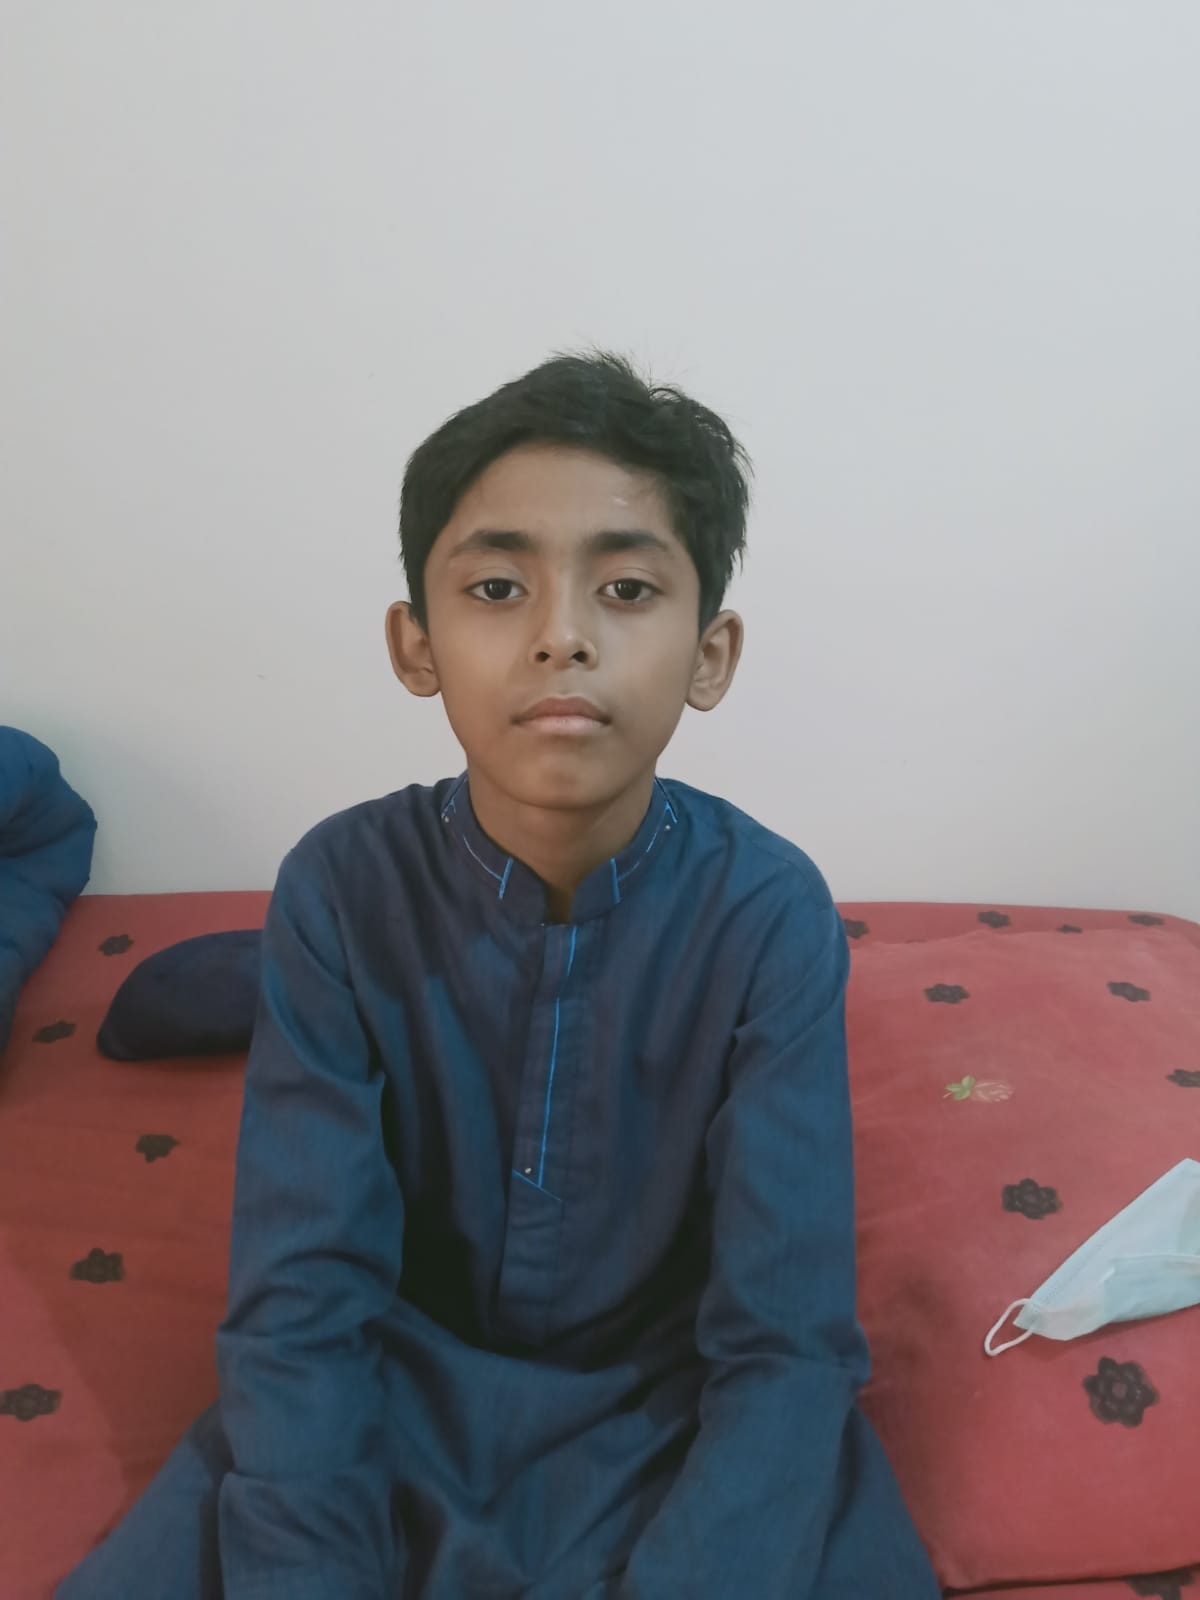NoMask: (435, 515, 680, 805)
